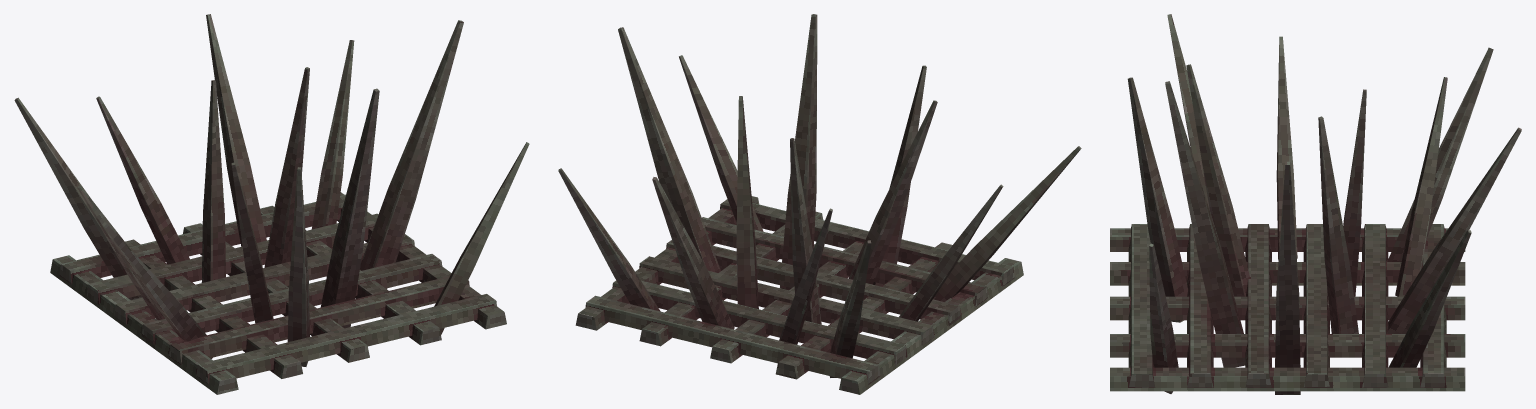
The model's file is spikes-3.glb.
3 views of the same model, side by side, from view 1: azimuth 30°, elevation 25°; view 2: azimuth 150°, elevation 25°; view 3: azimuth 270°, elevation 25° (orthographic). The views are drawn at different scales.
Parts seen in each view (by area): view 1: Spikes_3; view 2: Spikes_3; view 3: Spikes_3.
Boxes of the visible parts, x1,y1,x2,y2 form: Spikes_3: (14, 14, 529, 394); Spikes_3: (558, 14, 1081, 394); Spikes_3: (1110, 14, 1521, 394).
Size of the model in its own units: 3.75 by 2.32 by 3.
Materials: 1 (1 with a texture image).
